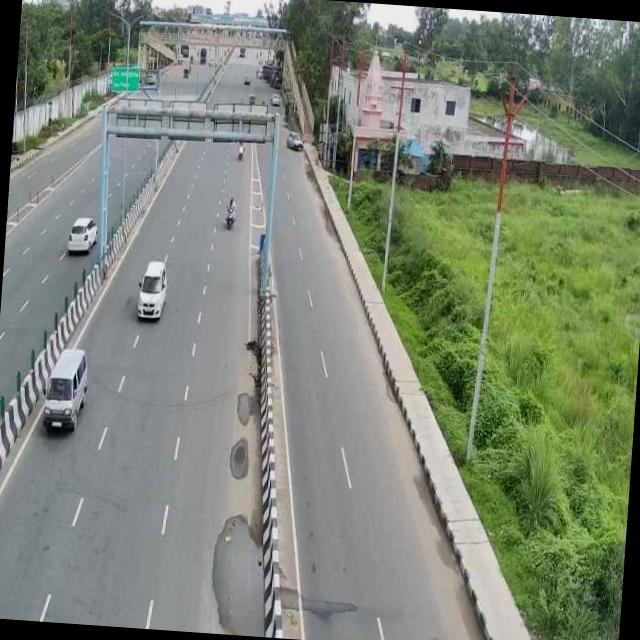car: (34, 342, 94, 436), (132, 257, 170, 323), (63, 214, 98, 256)
